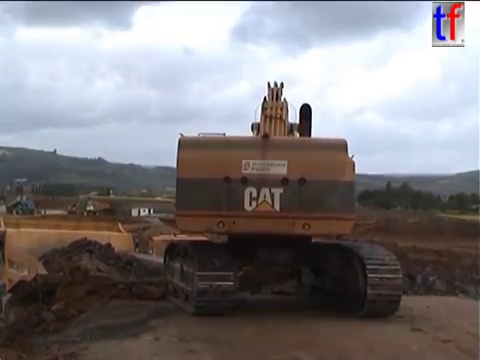excavator: (159, 77, 408, 321)
truck: (1, 216, 212, 359), (143, 230, 234, 302), (80, 198, 115, 220)
